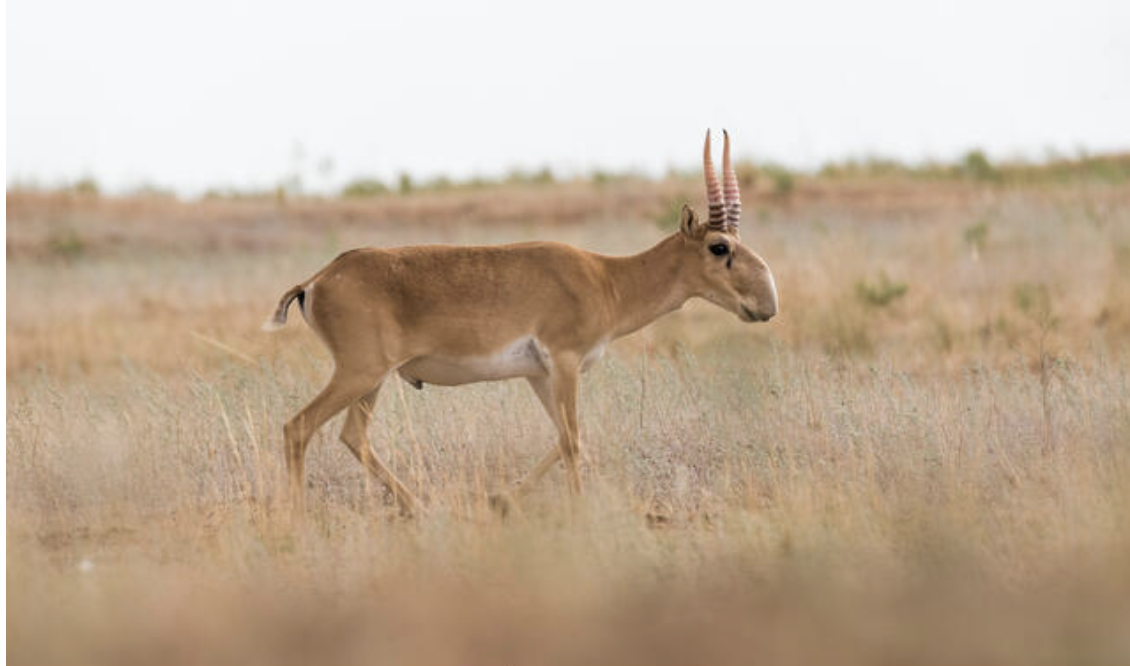saiga: (225, 130, 799, 519)
